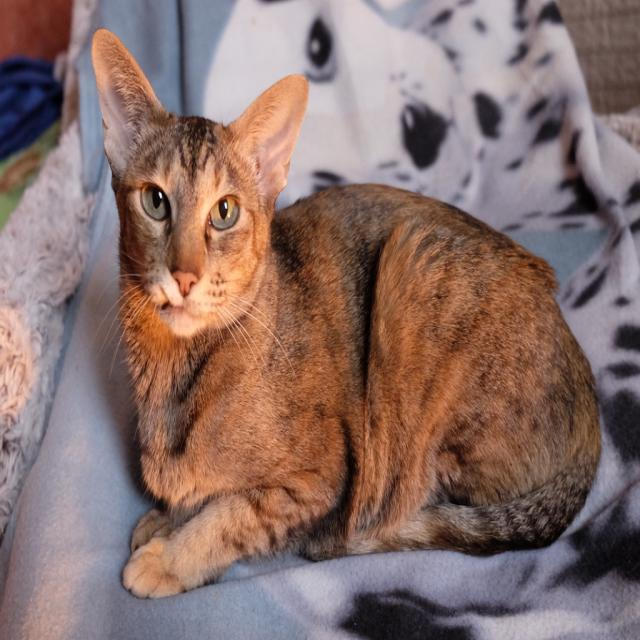Cat: (91, 27, 604, 597)
